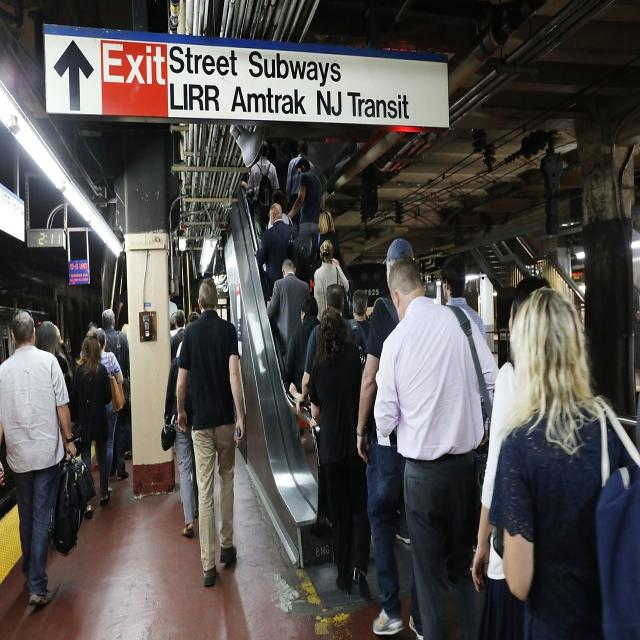body: (371, 254, 501, 640), (486, 285, 624, 640), (469, 272, 555, 639), (353, 237, 428, 637), (0, 308, 78, 604), (174, 274, 247, 590), (304, 302, 376, 602), (437, 252, 491, 556), (295, 283, 367, 416), (160, 320, 198, 538), (72, 331, 113, 521), (283, 294, 322, 447), (100, 307, 134, 464), (265, 256, 313, 361), (96, 328, 126, 494), (286, 156, 325, 267), (253, 202, 292, 300), (247, 138, 280, 250), (313, 238, 351, 326), (306, 209, 347, 282), (285, 140, 315, 234), (34, 318, 74, 377), (268, 189, 294, 260), (76, 321, 102, 366), (352, 288, 371, 342), (169, 310, 201, 338), (170, 309, 186, 363), (118, 322, 130, 347)
